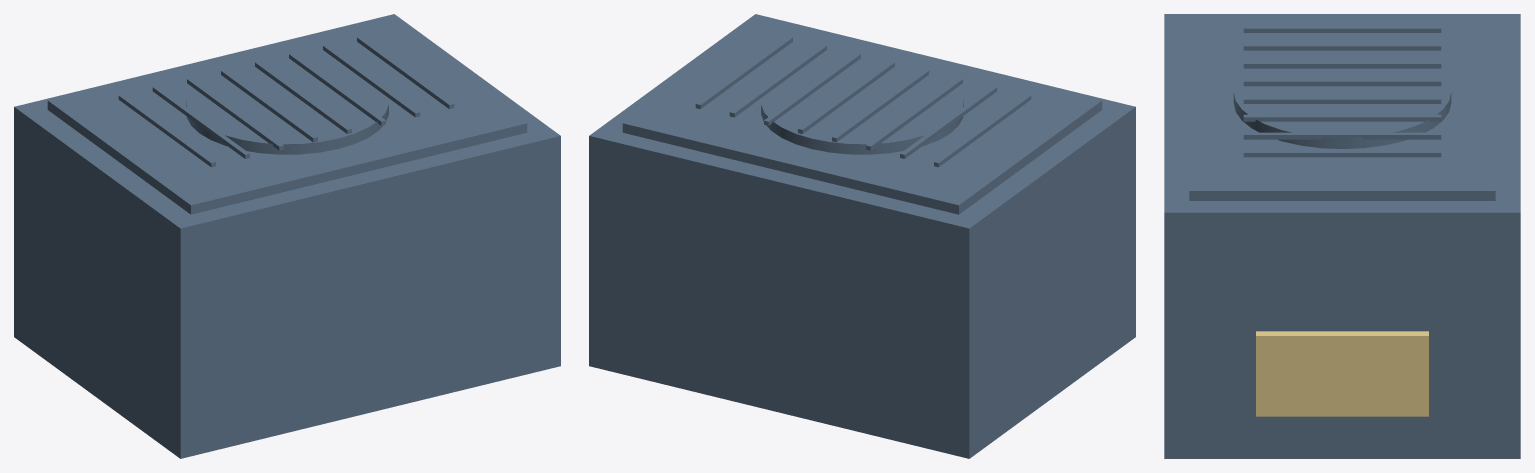
The model's file is fuente-poder.gltf.
3 renders of one model, left to right at view 1: azimuth 30°, elevation 25°; view 2: azimuth 150°, elevation 25°; view 3: azimuth 270°, elevation 25°, orthographic. The views are drawn at different scales.
Parts seen in each view (by area): view 1: Parte_1, Parte_2, Parte_3, Parte_11, Parte_10, Parte_4, Parte_5, Parte_7, Parte_8, Parte_9, Parte_6; view 2: Parte_1, Parte_2, Parte_3, Parte_11, Parte_10, Parte_4, Parte_5, Parte_7, Parte_8, Parte_9, Parte_6; view 3: Parte_1, Parte_2, Parte_12, Parte_3, Parte_5, Parte_6, Parte_7, Parte_11, Parte_9, Parte_10, Parte_4, Parte_8.
Boxes of the visible parts, left/top/right/bottom form: Parte_1: left=14, top=14, right=560, bottom=458; Parte_2: left=47, top=18, right=527, bottom=214; Parte_3: left=186, top=100, right=388, bottom=154; Parte_11: left=357, top=36, right=454, bottom=109; Parte_10: left=323, top=44, right=420, bottom=117; Parte_4: left=118, top=94, right=215, bottom=167; Parte_5: left=152, top=86, right=249, bottom=158; Parte_7: left=221, top=69, right=317, bottom=142; Parte_8: left=255, top=61, right=351, bottom=133; Parte_9: left=289, top=53, right=385, bottom=125; Parte_6: left=187, top=78, right=283, bottom=150; Parte_1: left=589, top=14, right=1135, bottom=458; Parte_2: left=622, top=18, right=1102, bottom=214; Parte_3: left=761, top=100, right=963, bottom=154; Parte_11: left=695, top=36, right=792, bottom=109; Parte_10: left=729, top=44, right=826, bottom=117; Parte_4: left=934, top=94, right=1031, bottom=167; Parte_5: left=900, top=86, right=997, bottom=158; Parte_7: left=832, top=69, right=928, bottom=142; Parte_8: left=798, top=61, right=894, bottom=133; Parte_9: left=764, top=53, right=860, bottom=125; Parte_6: left=866, top=78, right=962, bottom=150; Parte_1: left=1164, top=14, right=1520, bottom=458; Parte_2: left=1189, top=15, right=1495, bottom=200; Parte_12: left=1256, top=331, right=1428, bottom=416; Parte_3: left=1233, top=92, right=1451, bottom=148; Parte_5: left=1243, top=43, right=1441, bottom=50; Parte_6: left=1243, top=61, right=1441, bottom=68; Parte_7: left=1243, top=79, right=1441, bottom=86; Parte_11: left=1243, top=150, right=1441, bottom=157; Parte_9: left=1243, top=114, right=1441, bottom=121; Parte_10: left=1243, top=132, right=1441, bottom=139; Parte_4: left=1243, top=26, right=1441, bottom=32; Parte_8: left=1243, top=97, right=1441, bottom=103.
Bounding box in the file's own units: 0.9725 × 0.602 × 0.72.
